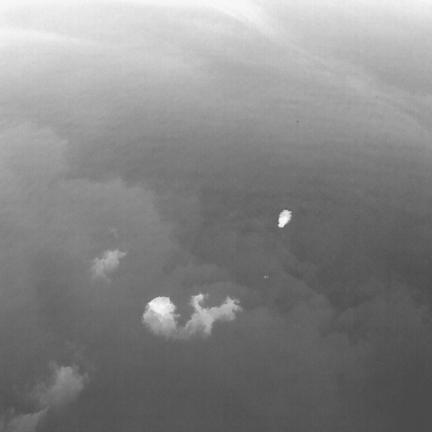flukeprints: (179, 294, 242, 338), (146, 297, 175, 316), (277, 209, 292, 228)
